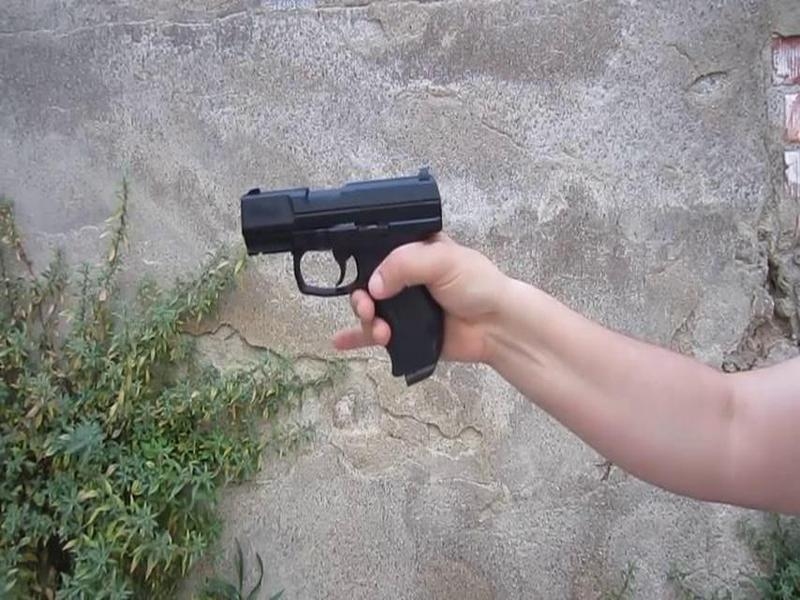Pistola: (208, 133, 509, 420)
